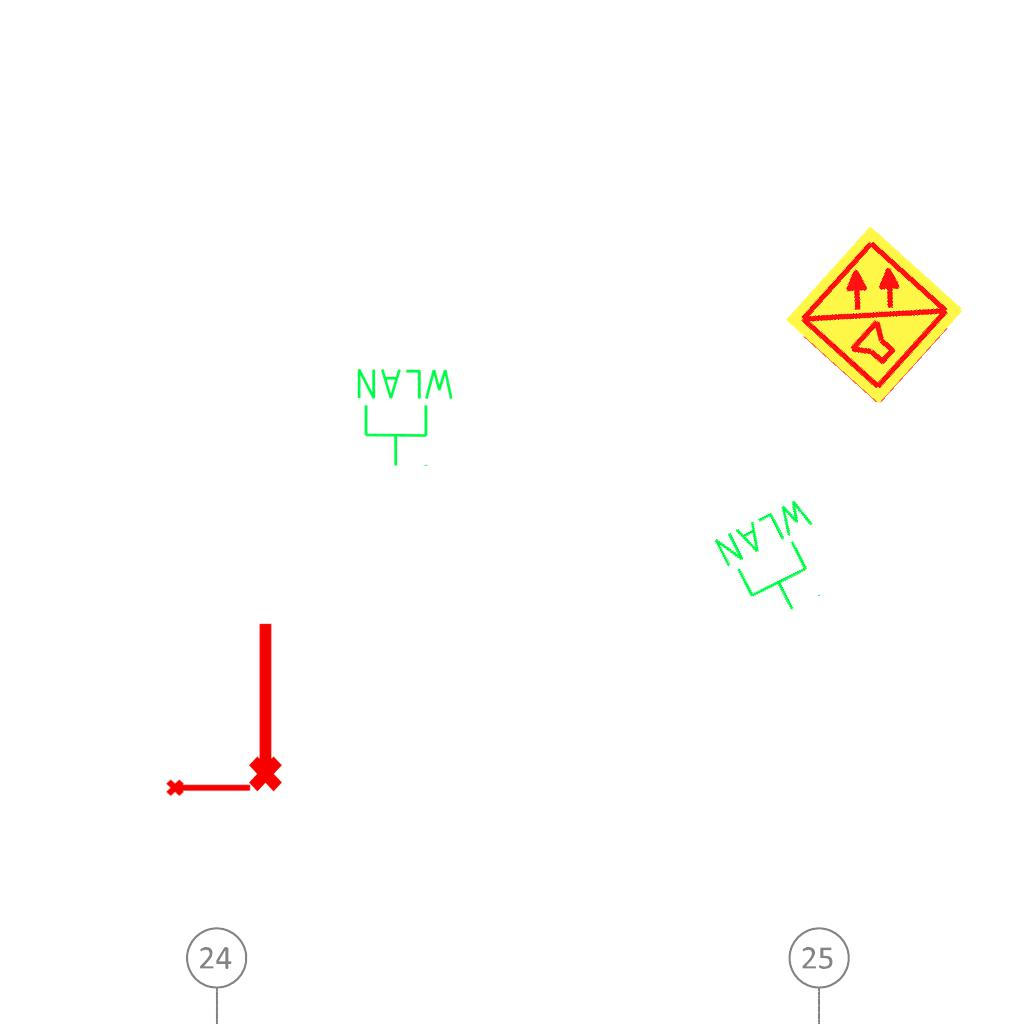ASR_Ansaugoeffnung: (240, 618, 286, 794), (165, 775, 253, 798)
OKW_Multisensormelder_(Kombination_optischer_Rauch-Kahlenmonoxid_Waerme-Melder): (781, 221, 969, 409)
WLAN: (708, 491, 850, 632), (353, 365, 458, 469)
